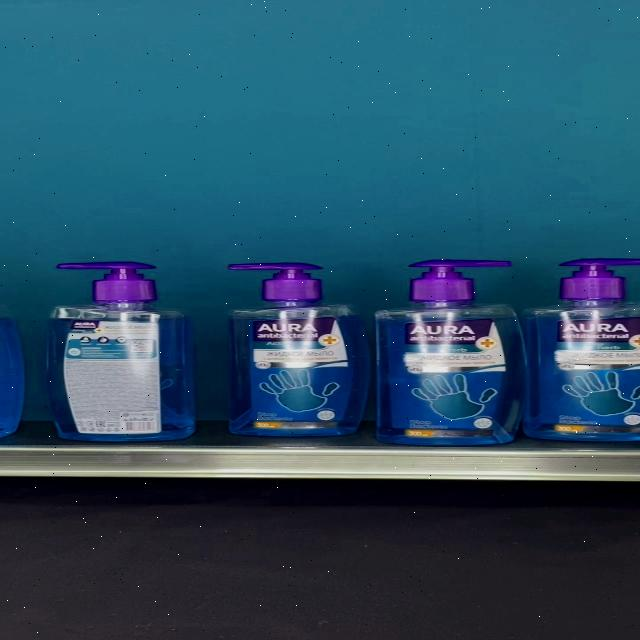Bottle: (375, 259, 527, 445), (44, 263, 196, 442), (229, 263, 372, 437), (522, 256, 640, 442)
Cap: (410, 259, 512, 301), (58, 263, 157, 305), (228, 263, 324, 301), (558, 257, 640, 301)
